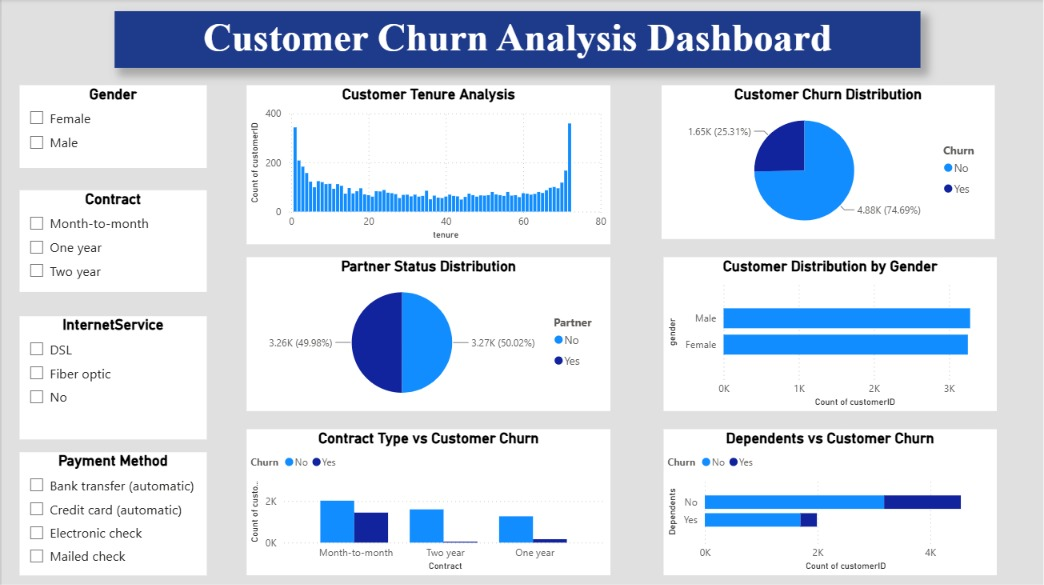

Layout of this report page (visuals, bound fields, positions):
{"tool":"powerbi","page":{"name":"Page 1","canvas":[1280,720],"ordinal":0},"visuals":[{"type":"pieChart","title":"Customer Churn Distribution","fields":{"Category":["Telco_Customer_Churn_Dataset  (2).Churn"],"Y":["CountNonNull(Telco_Customer_Churn_Dataset  (2).customerID)"]},"box":[809.8,105.5,408.6,189],"z":0},{"type":"clusteredBarChart","title":"Customer Distribution by Gender","fields":{"Category":["Telco_Customer_Churn_Dataset  (2).gender"],"Y":["CountNonNull(Telco_Customer_Churn_Dataset  (2).customerID)"]},"box":[812.3,316.6,408.6,189],"z":1000},{"type":"pieChart","title":"Partner Status Distribution","fields":{"Category":["Telco_Customer_Churn_Dataset  (2).Partner"],"Y":["CountNonNull(Telco_Customer_Churn_Dataset  (2).customerID)"]},"box":[300.6,316.6,446.6,189],"z":2000},{"type":"barChart","title":"Dependents vs Customer Churn","fields":{"Series":["Telco_Customer_Churn_Dataset  (2).Churn"],"Category":["Telco_Customer_Churn_Dataset  (2).Dependents"],"Y":["CountNonNull(Telco_Customer_Churn_Dataset  (2).customerID)"]},"box":[812.3,527.6,408.6,179.1],"z":3000},{"type":"clusteredColumnChart","title":"Customer Tenure Analysis","fields":{"Category":["Telco_Customer_Churn_Dataset  (2).tenure"],"Y":["CountNonNull(Telco_Customer_Churn_Dataset  (2).customerID)"]},"box":[300.6,105.5,446.6,195.1],"z":4000},{"type":"clusteredColumnChart","title":"Contract Type vs Customer Churn","fields":{"Category":["Telco_Customer_Churn_Dataset  (2).Contract"],"Y":["CountNonNull(Telco_Customer_Churn_Dataset  (2).customerID)"],"Series":["Telco_Customer_Churn_Dataset  (2).Churn"]},"box":[300.6,527.6,446.6,179.1],"z":5000},{"type":"slicer","title":"Gender","fields":{"Values":["Telco_Customer_Churn_Dataset  (2).gender"]},"box":[22.1,105.5,229.4,101.8],"z":6000},{"type":"slicer","title":"Contract","fields":{"Values":["Telco_Customer_Churn_Dataset  (2).Contract"]},"box":[22.1,234.4,229.4,125.2],"z":7000},{"type":"slicer","title":"InternetService","fields":{"Values":["Telco_Customer_Churn_Dataset  (2).InternetService"]},"box":[22.1,389,229.4,150.9],"z":8000},{"type":"slicer","title":"Payment Method","fields":{"Values":["Telco_Customer_Churn_Dataset  (2).PaymentMethod"]},"box":[22.1,555.8,229.4,150.9],"z":9000},{"type":"textbox","box":[138.1,14.9,988.9,69.7],"z":10000}]}

Visuals, with their boxes in screenshot pixels (x1, y1, x2, y2), scaled from the page's 1280x720 canvas onto the 1044x585 screenshot:
"Customer Churn Distribution" pieChart: (left=660, top=86, right=994, bottom=239)
"Customer Distribution by Gender" clusteredBarChart: (left=663, top=257, right=996, bottom=411)
"Partner Status Distribution" pieChart: (left=245, top=257, right=609, bottom=411)
"Dependents vs Customer Churn" barChart: (left=663, top=429, right=996, bottom=574)
"Customer Tenure Analysis" clusteredColumnChart: (left=245, top=86, right=609, bottom=244)
"Contract Type vs Customer Churn" clusteredColumnChart: (left=245, top=429, right=609, bottom=574)
"Gender" slicer: (left=18, top=86, right=205, bottom=168)
"Contract" slicer: (left=18, top=190, right=205, bottom=292)
"InternetService" slicer: (left=18, top=316, right=205, bottom=439)
"Payment Method" slicer: (left=18, top=452, right=205, bottom=574)
textbox: (left=113, top=12, right=919, bottom=69)
